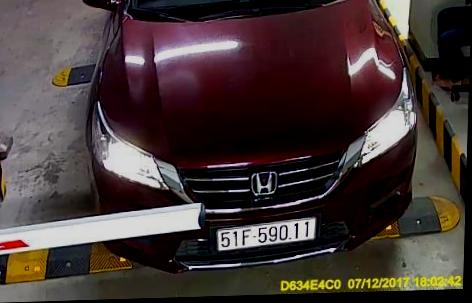License_Plate: (217, 212, 318, 250)
